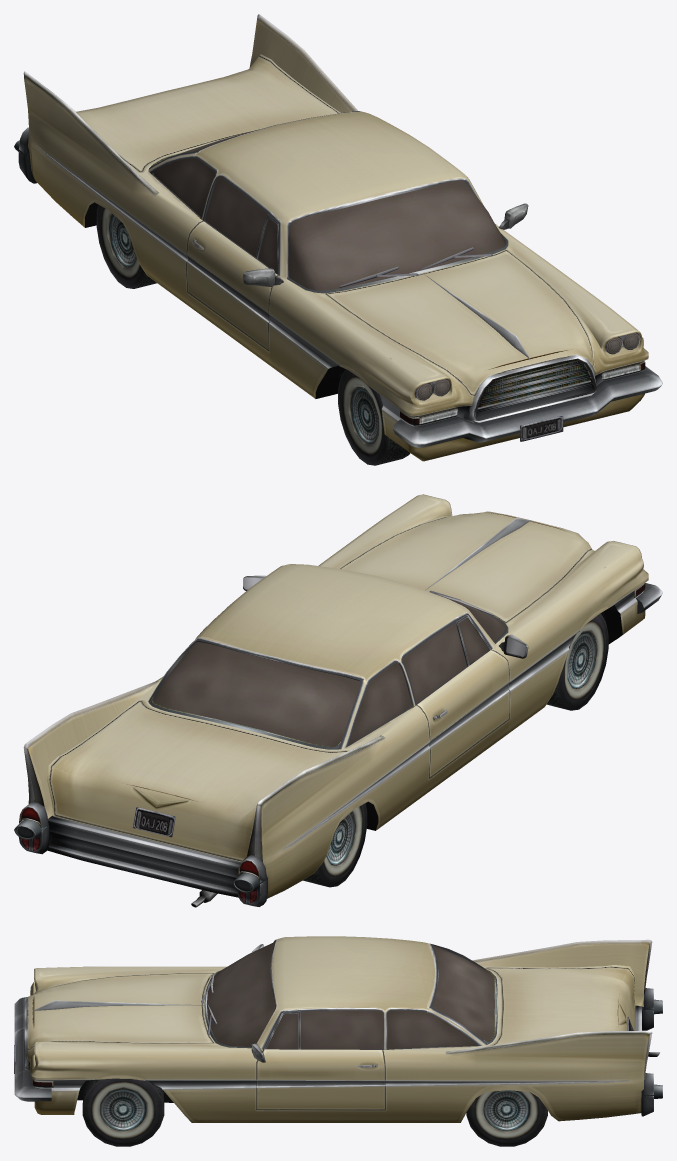
The model's file is classic.FBX.
3 views of the same model, one above another, from view 1: azimuth 30°, elevation 25°; view 2: azimuth 150°, elevation 25°; view 3: azimuth 270°, elevation 25° (orthographic). The views are drawn at different scales.
Parts seen in each view (by area): view 1: OS_Clas01, winshild, door_R, wheel_F_R, wheel_R_R; view 2: OS_Clas01, winshild, door_R, wheel_F_R, wheel_R_R; view 3: OS_Clas01, winshild, door_L, wheel_F_L, wheel_R_L.
Part boxes in pixels (x1,y1,x2,y2): OS_Clas01: (14, 14, 662, 461); winshild: (153, 129, 639, 399); door_R: (186, 214, 278, 350); wheel_F_R: (338, 369, 410, 465); wheel_R_R: (96, 204, 156, 288); OS_Clas01: (14, 494, 662, 907); winshild: (153, 592, 505, 746); door_R: (416, 615, 510, 777); wheel_F_R: (546, 613, 608, 710); wheel_R_R: (303, 803, 367, 887); OS_Clas01: (14, 936, 662, 1122); winshild: (35, 942, 494, 1062); door_L: (256, 1011, 385, 1109); wheel_F_L: (82, 1078, 164, 1146); wheel_R_L: (466, 1090, 547, 1146).
Bounding box in the file's own units: 21.41 × 12.76 × 53.27.
